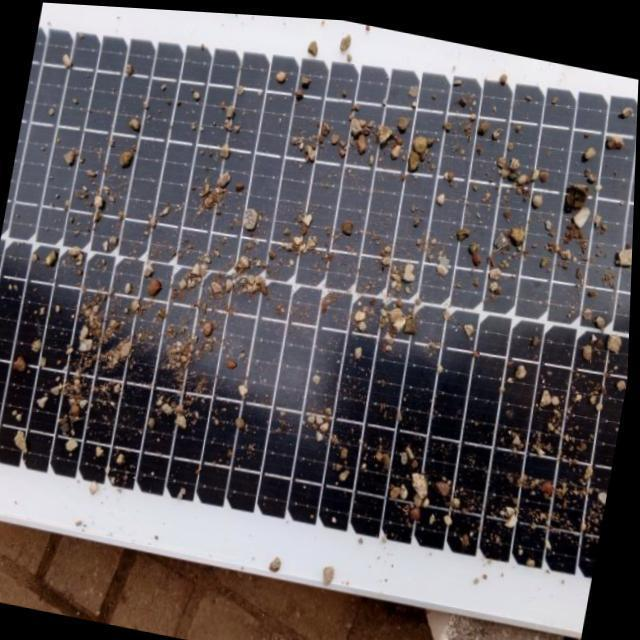Surface Contaminant: (0, 2, 638, 601)
